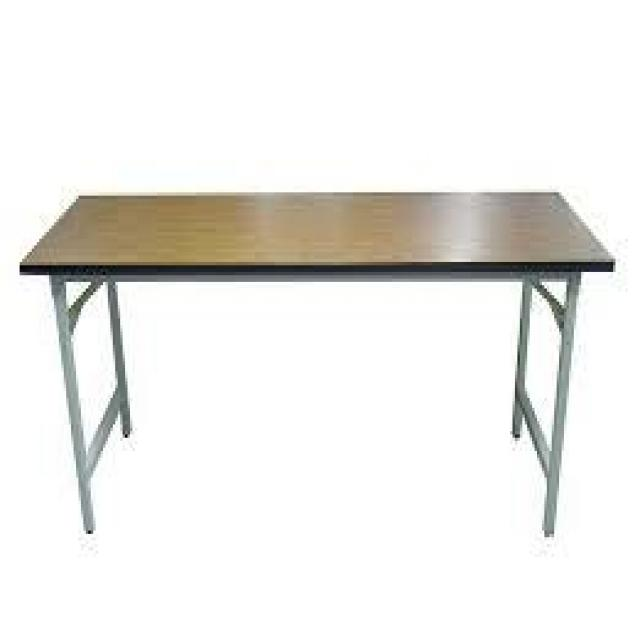table: (12, 116, 623, 564)
